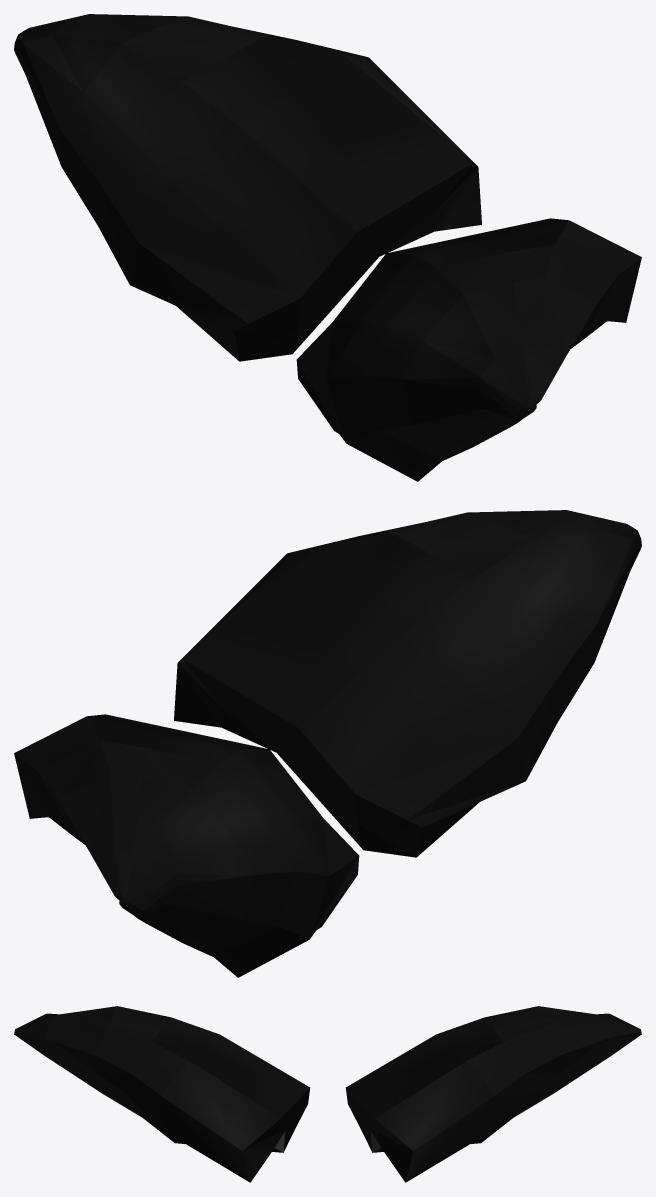
File: WEREWOLF EARS.fbx
3 views of the same model, one above another, from view 1: azimuth 30°, elevation 25°; view 2: azimuth 150°, elevation 25°; view 3: azimuth 270°, elevation 25° (orthographic). The views are drawn at different scales.
Visible parts, largest first — view 1: WEREWOLF_EARS; view 2: WEREWOLF_EARS; view 3: WEREWOLF_EARS.
Boxes of the visible parts, x1,y1,x2,y2 form: WEREWOLF_EARS: [14, 14, 641, 481]; WEREWOLF_EARS: [14, 510, 641, 977]; WEREWOLF_EARS: [14, 1006, 641, 1182].
Size of the model in its own units: 13.66 by 9.45 by 38.05.
